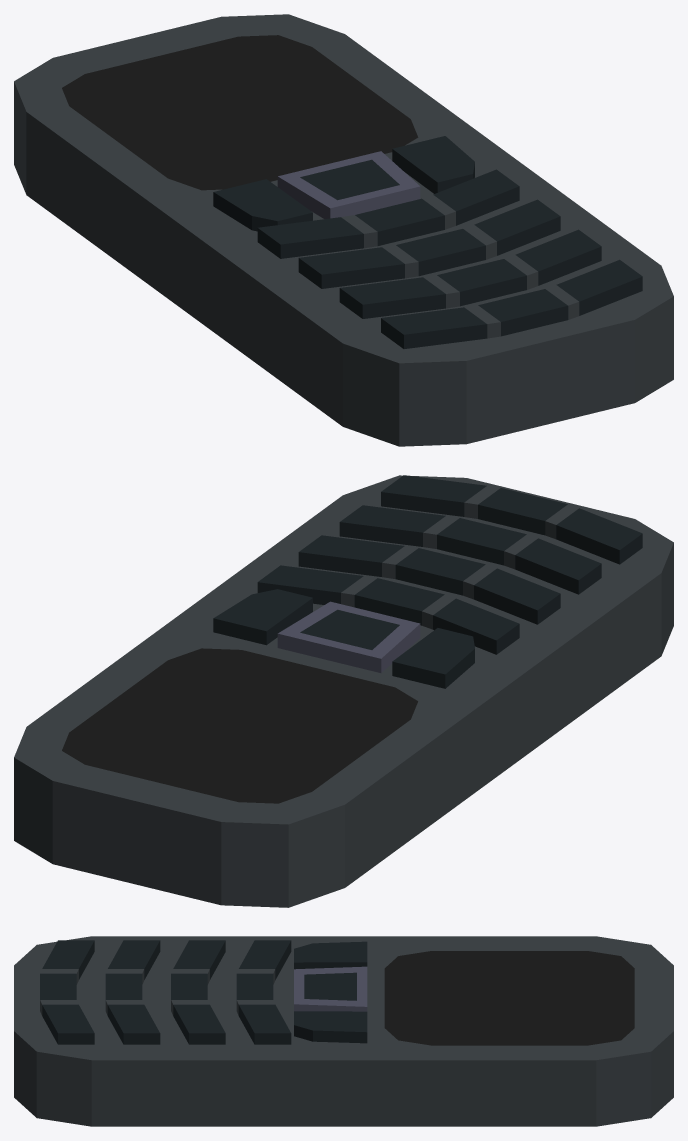
Rendered from Cellphone_02.fbx.
3 views of the same model, one above another, from view 1: azimuth 30°, elevation 25°; view 2: azimuth 150°, elevation 25°; view 3: azimuth 270°, elevation 25° (orthographic). The views are drawn at different scales.
Parts seen in each view (by area): view 1: Cellphone_02; view 2: Cellphone_02; view 3: Cellphone_02.
Part boxes in pixels (x1,y1,x2,y2): Cellphone_02: [14, 14, 673, 446]; Cellphone_02: [14, 475, 673, 907]; Cellphone_02: [14, 936, 673, 1126].
Bounding box in the file's own units: 4 × 1.17 × 9.
